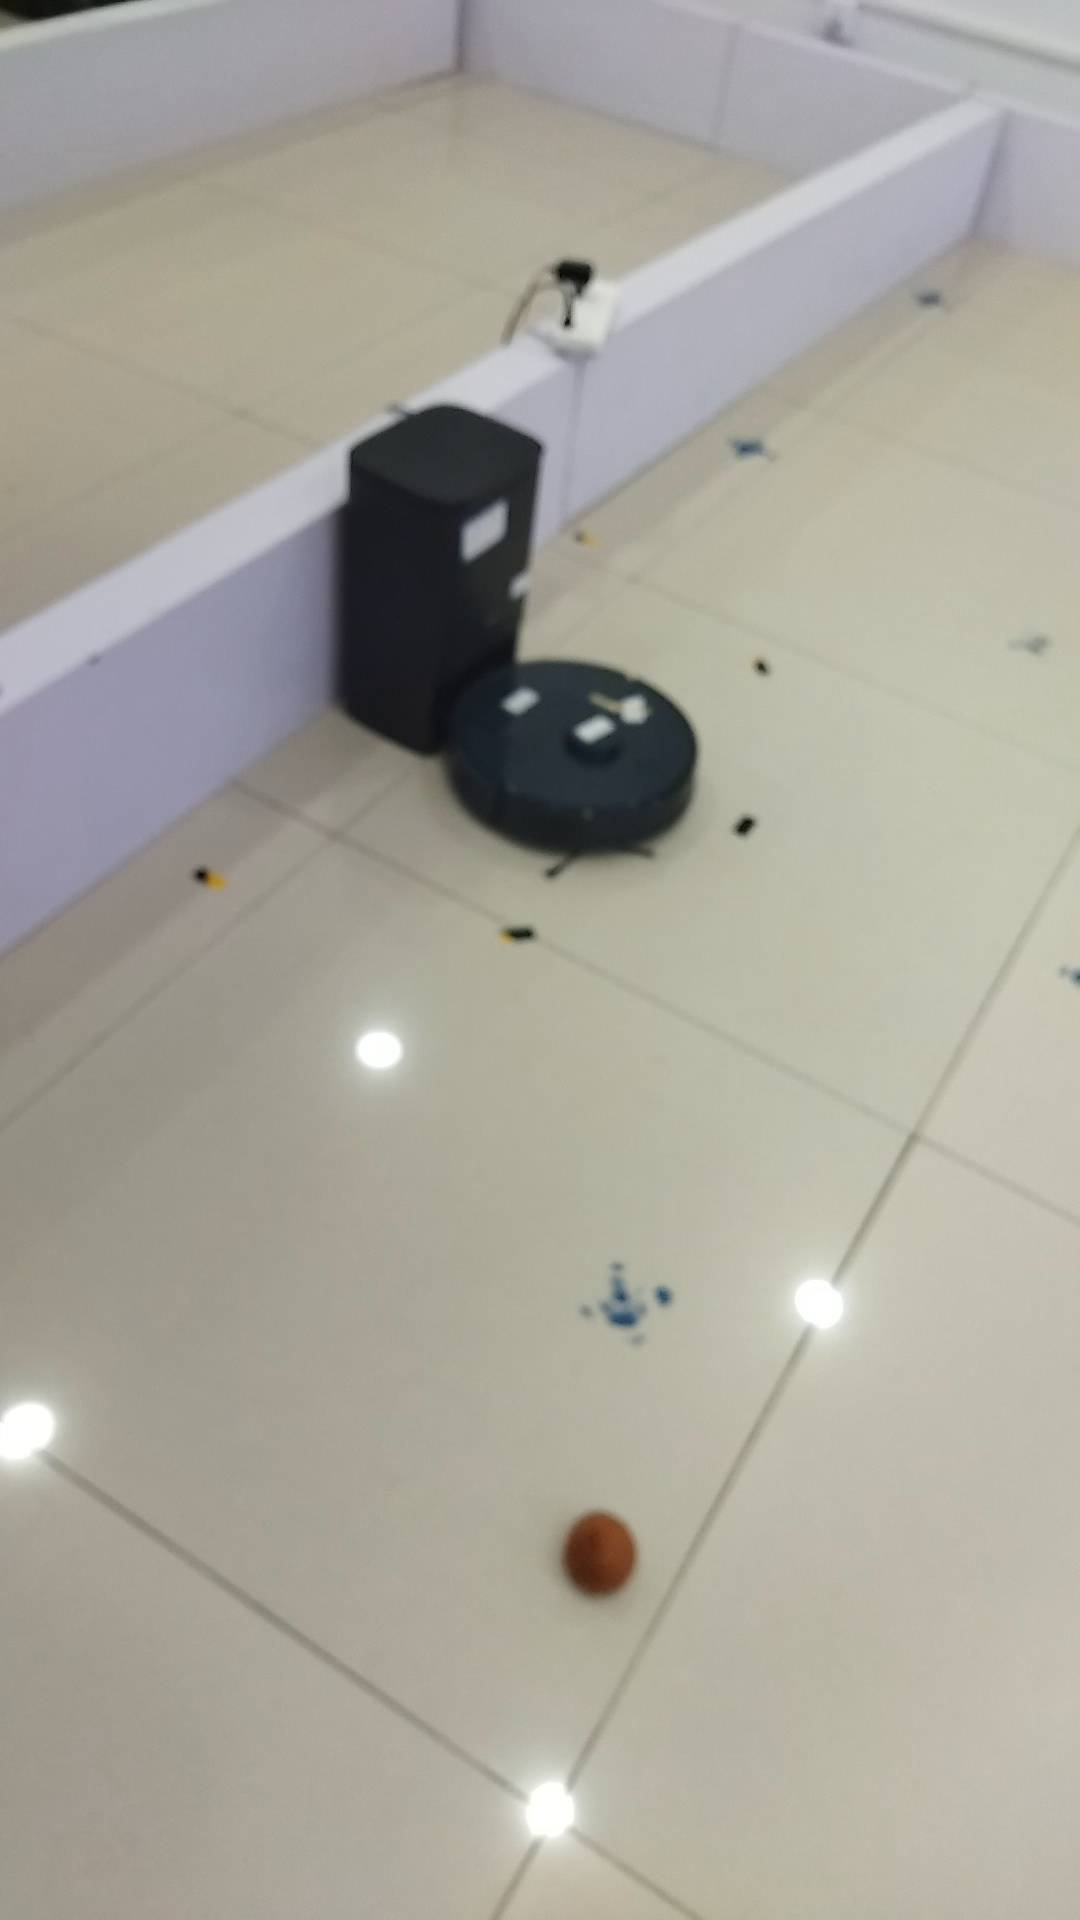dust collecting barrel: (331, 398, 545, 756)
